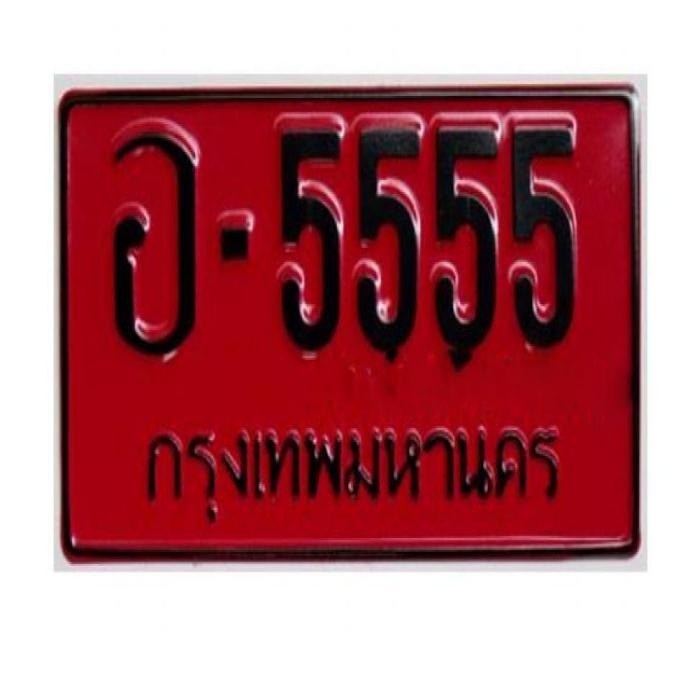5: (430, 114, 496, 366), (507, 113, 575, 350), (353, 115, 418, 356), (277, 115, 339, 350)
A43: (108, 120, 197, 358)
BKK: (132, 402, 570, 533)
